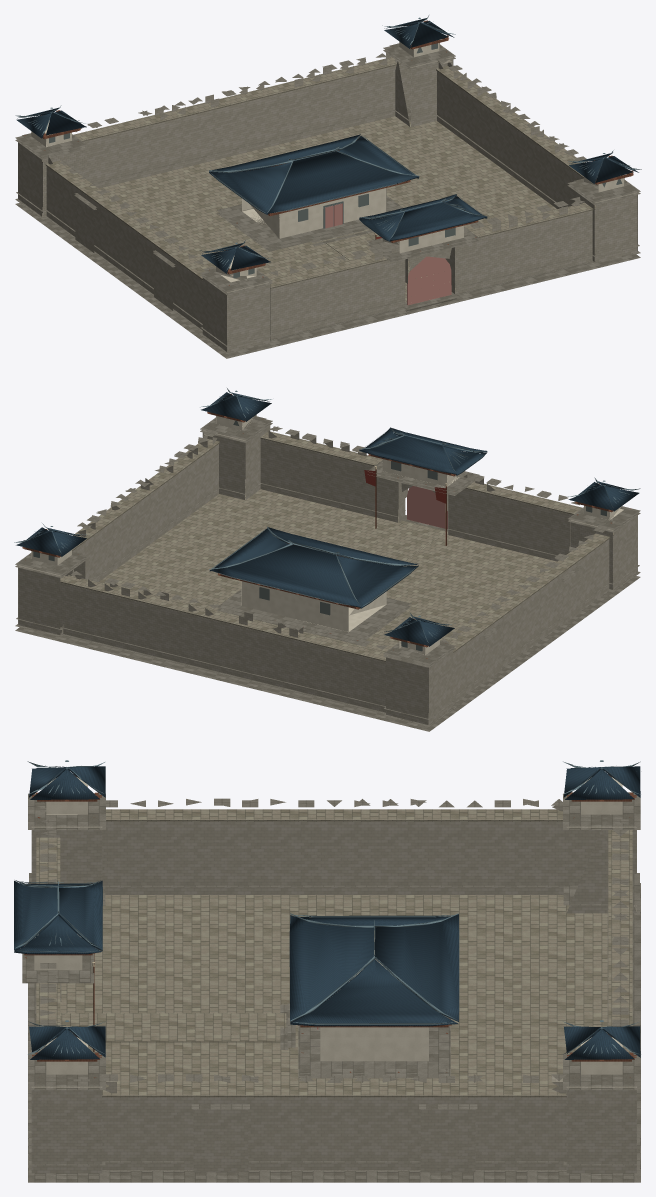
File: qingwa-city.glb
3 renders of one model, top to bottom at view 1: azimuth 30°, elevation 25°; view 2: azimuth 150°, elevation 25°; view 3: azimuth 270°, elevation 25°, orthographic. The views are drawn at different scales.
Parts seen in each view (by area): view 1: 城墙与城门 · 城池 · 青砖墙, 城墙与城门 · 城池 · 石板铺地, 城墙与城门 · 城池 · 深色石基, 角楼 · 城池 · 青砖墙, 城内建筑 · 城池 · 青瓦, 角楼 · 城池 · 青瓦, 角楼 · 城池 · 深色石基, 城墙与城门 · 城池 · 青瓦, 城内建筑 · 城池 · 深色石基, 城内建筑 · 城池 · 灰浆墙, 城墙与城门 · 城池 · 暗红门扇, 角楼 · 城池 · 灰浆墙 (+5 smaller); view 2: 城墙与城门 · 城池 · 青砖墙, 城墙与城门 · 城池 · 石板铺地, 城墙与城门 · 城池 · 深色石基, 角楼 · 城池 · 青砖墙, 城内建筑 · 城池 · 青瓦, 角楼 · 城池 · 青瓦, 角楼 · 城池 · 深色石基, 城内建筑 · 城池 · 灰浆墙, 城墙与城门 · 城池 · 青瓦, 城内建筑 · 城池 · 深色石基, 城内建筑 · 城池 · 石板铺地, 城墙与城门 · 城池 · 暗红门扇 (+4 smaller); view 3: 城墙与城门 · 城池 · 石板铺地, 城墙与城门 · 城池 · 青砖墙, 城墙与城门 · 城池 · 深色石基, 城内建筑 · 城池 · 青瓦, 角楼 · 城池 · 青砖墙, 角楼 · 城池 · 青瓦, 角楼 · 城池 · 深色石基, 城墙与城门 · 城池 · 青瓦, 城内建筑 · 城池 · 石板铺地, 城内建筑 · 城池 · 深色石基, 城内建筑 · 城池 · 灰浆墙, 角楼 · 城池 · 灰浆墙 (+5 smaller).
Part boxes in pixels (bbox=[...]): 城墙与城门 · 城池 · 青砖墙: bbox=[42, 58, 595, 339]; 城墙与城门 · 城池 · 石板铺地: bbox=[42, 57, 595, 302]; 城墙与城门 · 城池 · 深色石基: bbox=[15, 49, 640, 358]; 角楼 · 城池 · 青砖墙: bbox=[18, 53, 637, 351]; 城内建筑 · 城池 · 青瓦: bbox=[209, 134, 419, 214]; 角楼 · 城池 · 青瓦: bbox=[16, 18, 638, 273]; 角楼 · 城池 · 深色石基: bbox=[15, 43, 640, 353]; 城墙与城门 · 城池 · 青瓦: bbox=[359, 194, 487, 241]; 城内建筑 · 城池 · 深色石基: bbox=[217, 196, 402, 251]; 城内建筑 · 城池 · 灰浆墙: bbox=[242, 188, 386, 238]; 城墙与城门 · 城池 · 暗红门扇: bbox=[407, 256, 451, 305]; 角楼 · 城池 · 灰浆墙: bbox=[31, 39, 624, 282]; 城墙与城门 · 城池 · 青砖墙: bbox=[60, 431, 613, 712]; 城墙与城门 · 城池 · 石板铺地: bbox=[60, 431, 613, 668]; 城墙与城门 · 城池 · 深色石基: bbox=[15, 422, 640, 731]; 角楼 · 城池 · 青砖墙: bbox=[18, 426, 637, 724]; 城内建筑 · 城池 · 青瓦: bbox=[209, 527, 418, 608]; 角楼 · 城池 · 青瓦: bbox=[16, 392, 639, 646]; 角楼 · 城池 · 深色石基: bbox=[15, 416, 640, 726]; 城内建筑 · 城池 · 灰浆墙: bbox=[241, 581, 386, 632]; 城墙与城门 · 城池 · 青瓦: bbox=[359, 427, 487, 475]; 城内建筑 · 城池 · 深色石基: bbox=[217, 589, 411, 644]; 城内建筑 · 城池 · 石板铺地: bbox=[364, 521, 445, 561]; 城墙与城门 · 城池 · 暗红门扇: bbox=[407, 486, 447, 528]; 城墙与城门 · 城池 · 石板铺地: bbox=[36, 809, 632, 1097]; 城墙与城门 · 城池 · 青砖墙: bbox=[102, 805, 608, 1172]; 城墙与城门 · 城池 · 深色石基: bbox=[22, 798, 640, 1182]; 城内建筑 · 城池 · 青瓦: bbox=[290, 914, 458, 1026]; 角楼 · 城池 · 青砖墙: bbox=[31, 826, 636, 1173]; 角楼 · 城池 · 青瓦: bbox=[29, 766, 640, 1059]; 角楼 · 城池 · 深色石基: bbox=[28, 792, 640, 1174]; 城墙与城门 · 城池 · 青瓦: bbox=[14, 880, 102, 954]; 城内建筑 · 城池 · 石板铺地: bbox=[60, 1013, 286, 1042]; 城内建筑 · 城池 · 深色石基: bbox=[280, 1003, 450, 1078]; 城内建筑 · 城池 · 灰浆墙: bbox=[320, 938, 428, 1061]; 角楼 · 城池 · 灰浆墙: bbox=[46, 777, 622, 1074].
Size of the model in its own units: 52.01 by 11.95 by 46.97.
11 materials, 7 textured.
